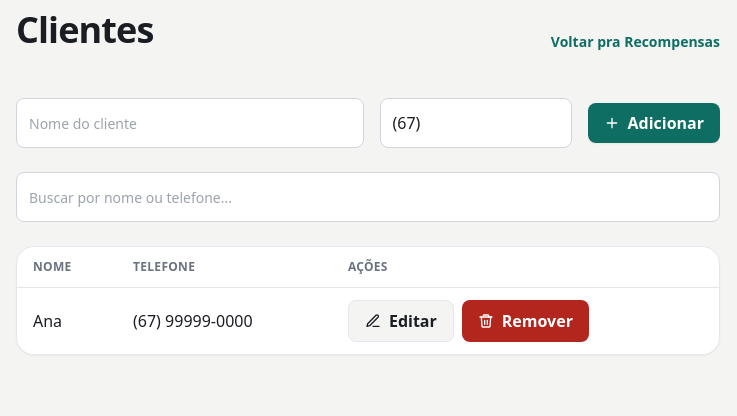
Test case: ClientesPage › shows an error and keeps the row when removing a customer fails
The image size is (737, 416).
Check: the text "Ana" is shown, box [17,288,117,354]
What coordinates should you click on to do the following:
click the button "Remover"
I would click on:
 (525, 321)
Its box is [462,300,589,342].
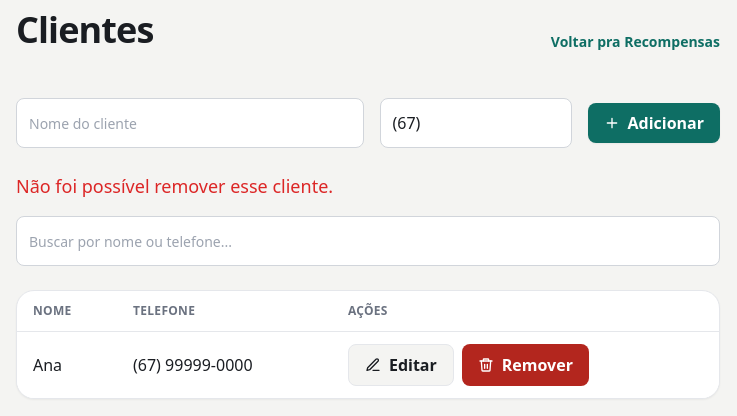
Check: the text "Ana" is shown, box [17,332,117,398]
Check: the text "Não foi possível remover esse cliente." is shown, box [16,174,333,198]
